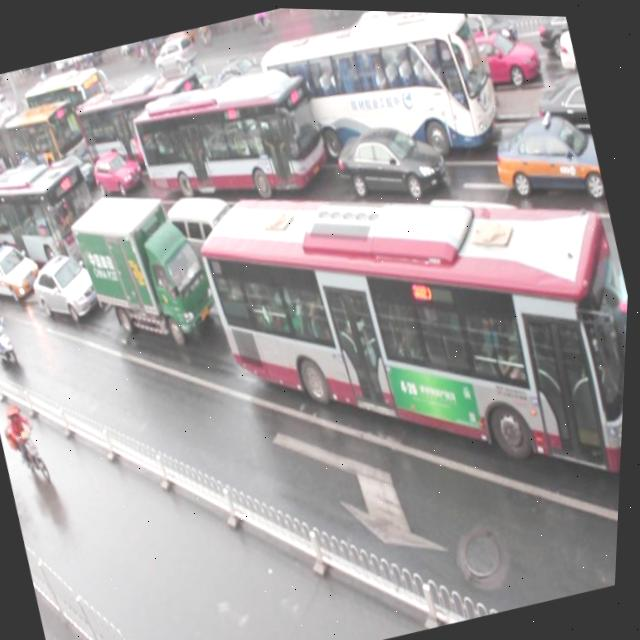bus: (61, 167, 224, 361)
car: (258, 193, 394, 321), (482, 99, 610, 221), (328, 107, 453, 214), (83, 199, 173, 287), (25, 239, 106, 324), (528, 69, 600, 164), (89, 142, 147, 201), (0, 232, 46, 304), (43, 147, 101, 203)
truck: (402, 164, 580, 353), (160, 178, 266, 294)
van: (181, 101, 637, 557), (251, 6, 508, 194), (124, 50, 337, 225), (68, 63, 220, 191), (0, 146, 116, 294), (0, 93, 92, 185)
